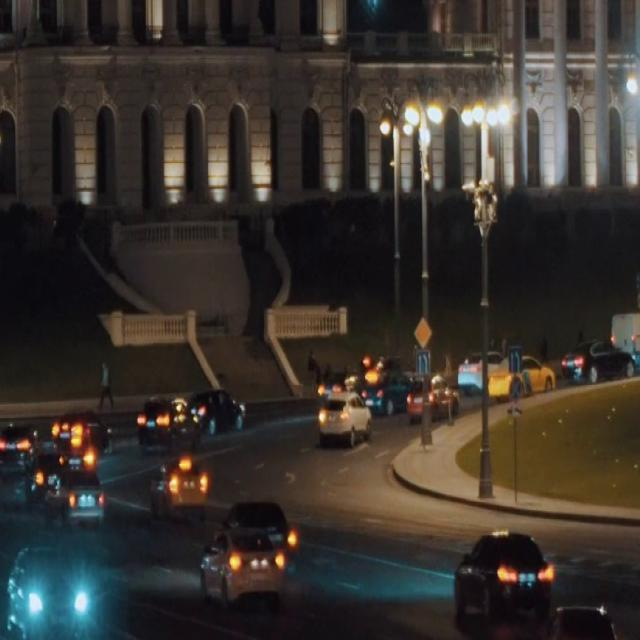car: (452, 530, 554, 618), (8, 548, 86, 638), (198, 528, 282, 608), (44, 470, 104, 532), (150, 458, 207, 519), (136, 397, 200, 450), (535, 602, 623, 640), (561, 340, 635, 382), (52, 409, 114, 458), (319, 392, 372, 448), (188, 388, 246, 432), (408, 376, 460, 422), (0, 422, 42, 474), (362, 374, 412, 415), (457, 352, 503, 391), (54, 439, 96, 476)
